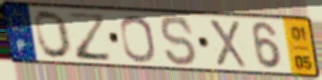6: (250, 21, 284, 71)
O: (33, 9, 74, 61), (118, 14, 158, 65)
S: (159, 14, 199, 68)
X: (206, 17, 249, 70)
Z: (65, 10, 114, 63)
